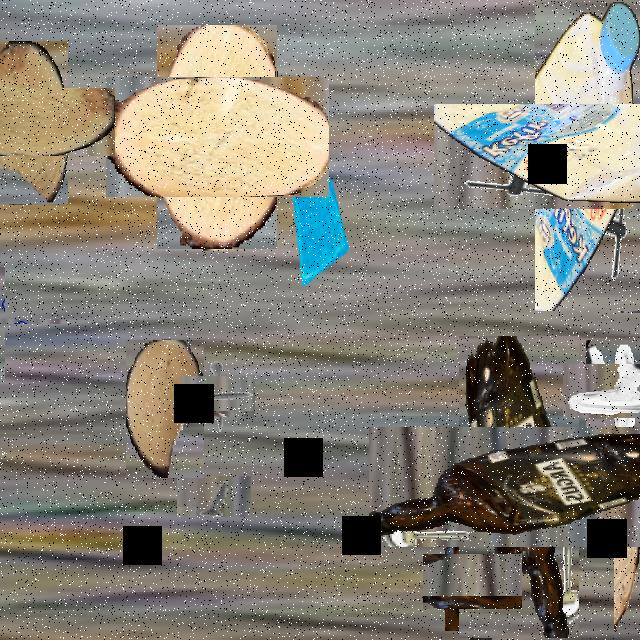glass: (288, 176, 352, 290), (0, 291, 33, 352)
metal: (537, 176, 597, 283), (434, 543, 512, 620), (574, 351, 640, 430), (585, 456, 640, 524), (189, 367, 247, 426), (185, 467, 243, 525)
plastic: (413, 382, 624, 592), (484, 52, 640, 260)
wood: (131, 51, 303, 223), (126, 340, 204, 478), (0, 64, 91, 180), (564, 463, 640, 588)
